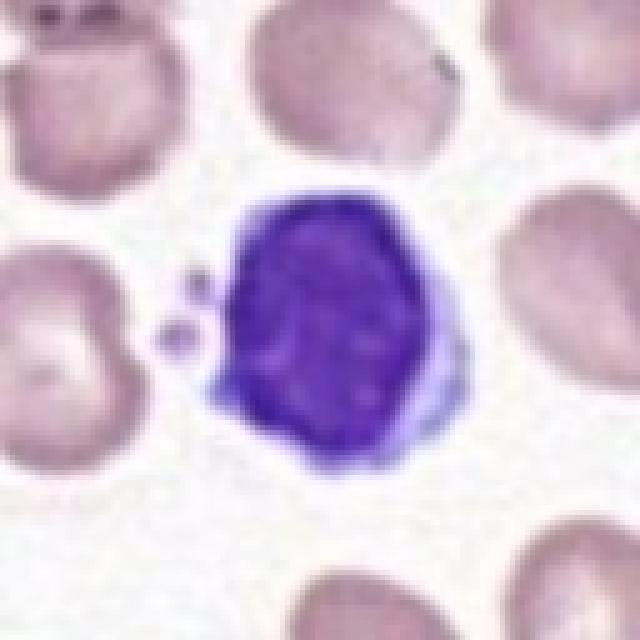lympho: (201, 183, 476, 481)
